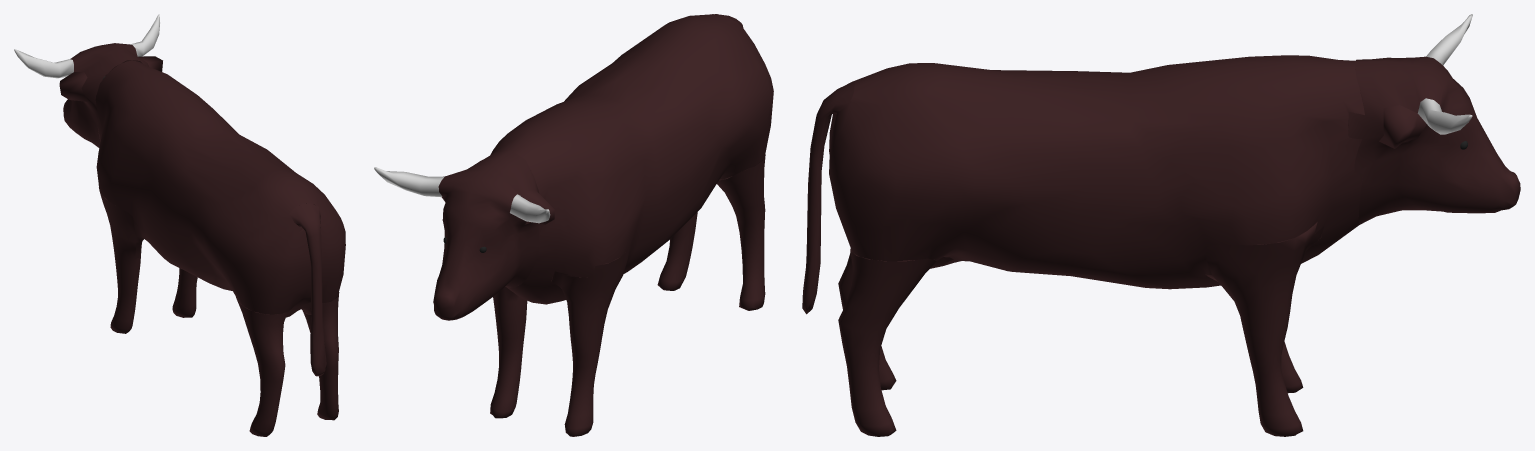
The model's file is LBSR_Bull.fbx.
3 renders of one model, left to right at view 1: azimuth 30°, elevation 25°; view 2: azimuth 150°, elevation 25°; view 3: azimuth 270°, elevation 25°, orthographic. The views are drawn at different scales.
Visible parts, largest first — view 1: body, leg_back_left, head, leg_front_left, tail, leg_back_right, leg_front_right, horn_left, ear_left, horn_right; view 2: body, head, leg_front_left, leg_back_left, leg_front_right, leg_back_right, horn_right, horn_left, ear_left; view 3: body, head, leg_front_right, leg_back_right, tail, ear_right, horn_right, leg_back_left, horn_left.
Part boxes in pixels (x1,y1,x2,y2): body: (95,60,345,317); leg_back_left: (236,297,287,436); head: (63,43,149,147); leg_front_left: (99,190,143,333); tail: (289,203,326,376); leg_back_right: (303,292,339,420); leg_front_right: (172,268,197,317); horn_left: (14,49,73,78); ear_left: (59,71,88,101); horn_right: (130,14,159,56); body: (490,14,773,304); head: (433,150,545,320); leg_front_left: (551,246,630,436); leg_back_left: (717,154,765,310); leg_front_right: (490,287,527,418); leg_back_right: (657,212,697,290); horn_right: (374,167,444,197); horn_left: (510,194,550,223); ear_left: (524,189,554,224); body: (829,55,1364,289); head: (1348,56,1520,224); leg_front_right: (1205,222,1324,436); leg_back_right: (838,248,939,436); tail: (802,81,854,314); ear_right: (1379,105,1426,148); horn_right: (1417,98,1472,134); leg_back_left: (838,252,896,390); horn_left: (1426,14,1472,65).
Size of the model in its own units: 3.07 by 4.99 by 9.22.
